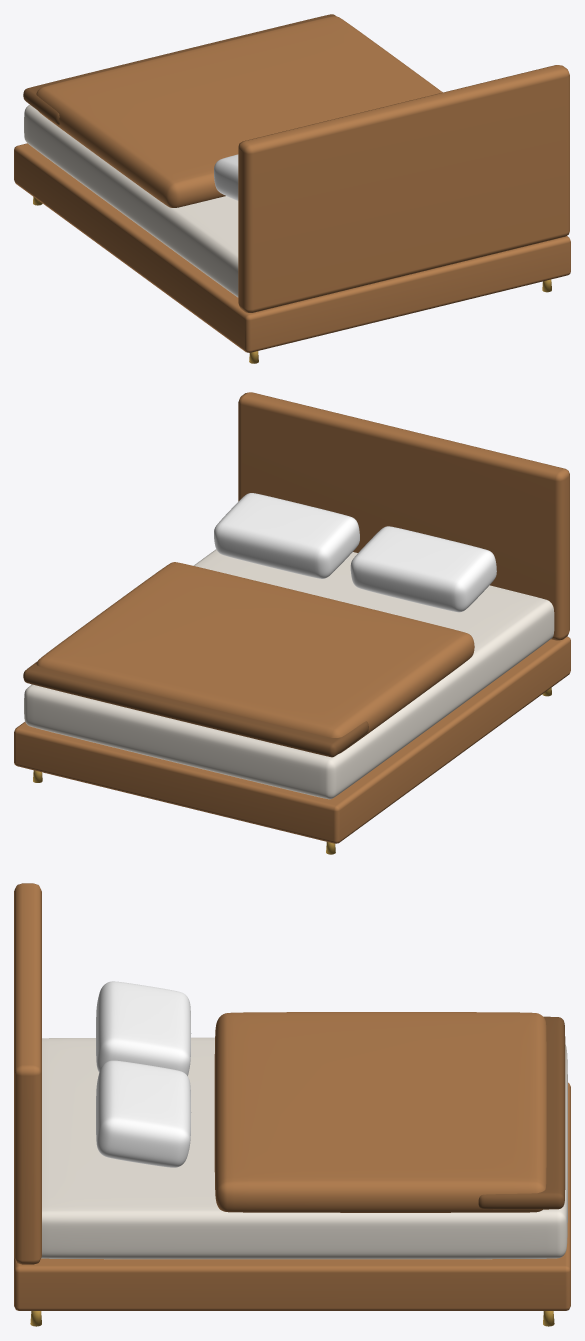
The model's file is bed.glb.
3 views of the same model, one above another, from view 1: azimuth 30°, elevation 25°; view 2: azimuth 150°, elevation 25°; view 3: azimuth 270°, elevation 25° (orthographic). The views are drawn at different scales.
Parts seen in each view (by area): view 1: leg; view 2: leg; view 3: leg.
Part boxes in pixels (box(x1,y1,x2,y2)): leg: box(14, 14, 570, 363); leg: box(14, 392, 570, 854); leg: box(14, 883, 570, 1326).
Size of the model in its own units: 1.6 by 1.05 by 2.
